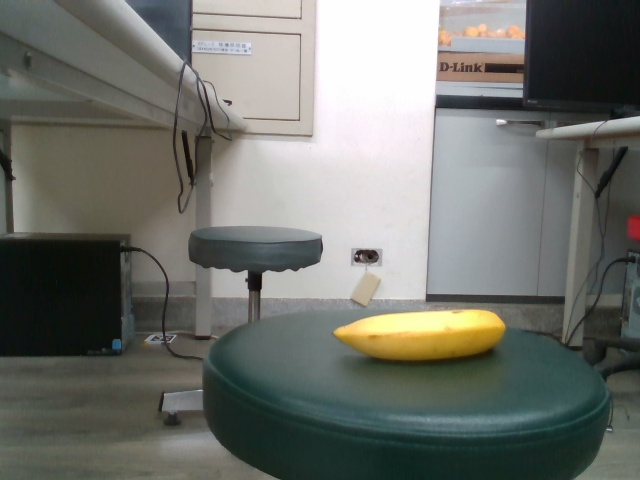banana: (326, 306, 510, 359)
